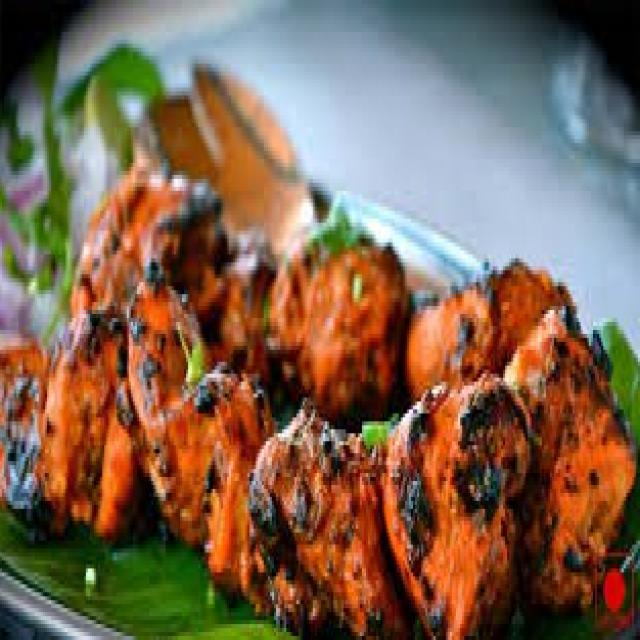Chicken Tikka: (2, 155, 640, 640)
